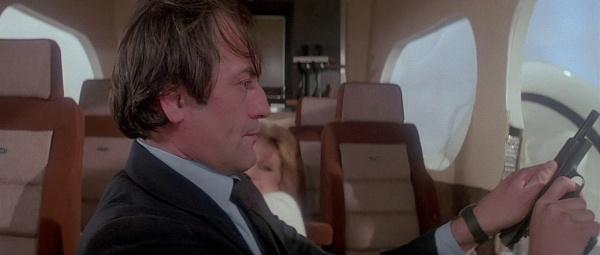Gun: (497, 109, 600, 255)
